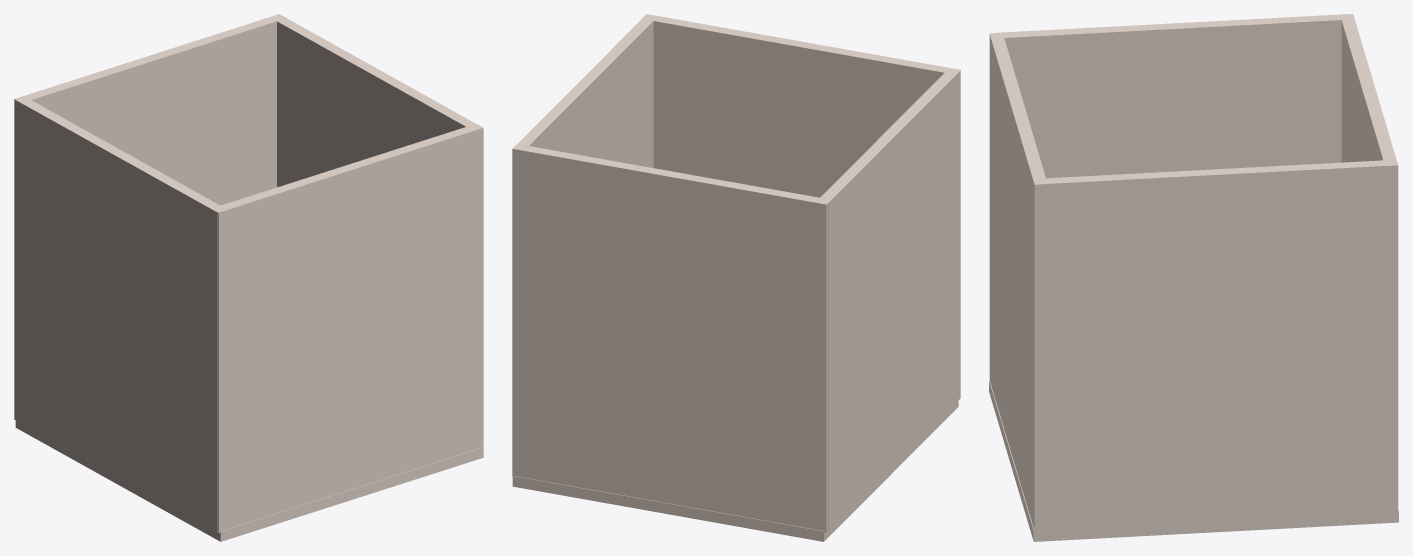
The model's file is Case_3.fbx.
3 views of the same model, side by side, from view 1: azimuth 30°, elevation 25°; view 2: azimuth 150°, elevation 25°; view 3: azimuth 270°, elevation 25° (orthographic). The views are drawn at different scales.
Visible parts, largest first — view 1: Case_3; view 2: Case_3; view 3: Case_3.
Boxes of the visible parts, box(x1,y1,x2,y2) form: Case_3: box(14, 14, 483, 541); Case_3: box(512, 14, 960, 541); Case_3: box(989, 14, 1398, 541).
Size of the model in its own units: 66.77 by 67.73 by 65.2.
